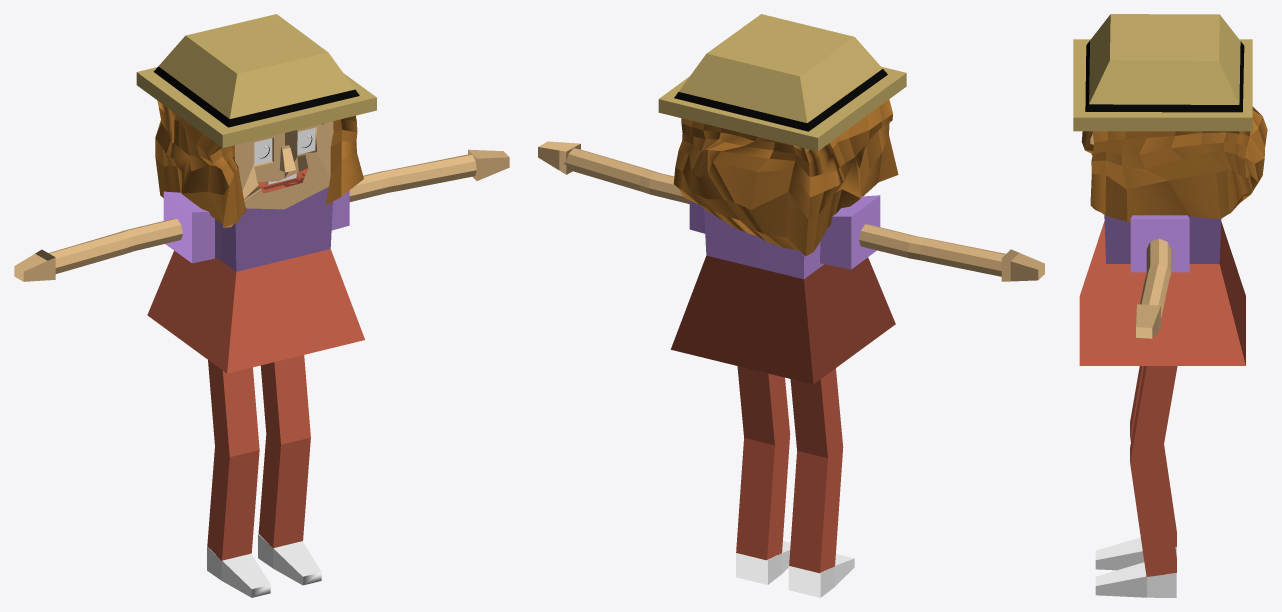
Rendered from character.fbx.
The picture shows the model from 3 angles, left to right: view 1: azimuth 30°, elevation 25°; view 2: azimuth 150°, elevation 25°; view 3: azimuth 270°, elevation 25°; orthographic projection. The views are drawn at different scales.
Visible parts, largest first — view 1: body, hoettop, haar, leg_l, leg_r, hoet_base, arm_r_1, arm_r, mouw_l, voet_r, voet_l, hand_l (+2 smaller); view 2: body, haar, hoettop, leg_l, leg_r, hoet_base, arm_r_1, mouw_l, arm_r, voet_l, voet_r, hand_l (+1 smaller); view 3: body, hoettop, haar, leg_r, hoet_base, mouw_r, voet_r, arm_r, voet_l, hand_r, leg_l.
Part boxes in pixels (<box>): body: <box>147,121,364,373</box>; hoettop: <box>153,14,359,127</box>; haar: <box>155,100,363,227</box>; leg_l: <box>207,360,259,560</box>; leg_r: <box>258,355,310,548</box>; hoet_base: <box>136,67,376,147</box>; arm_r_1: <box>48,218,182,273</box>; arm_r: <box>349,154,476,201</box>; mouw_l: <box>163,191,221,263</box>; voet_r: <box>258,534,321,585</box>; voet_l: <box>207,546,270,597</box>; hand_l: <box>14,249,55,281</box>; body: <box>671,208,895,384</box>; haar: <box>673,99,898,256</box>; hoettop: <box>674,14,887,131</box>; leg_l: <box>789,368,843,573</box>; leg_r: <box>736,366,790,560</box>; hoet_base: <box>658,66,906,151</box>; arm_r_1: <box>859,224,1005,276</box>; mouw_l: <box>820,195,880,269</box>; arm_r: <box>564,148,689,203</box>; voet_l: <box>788,554,854,597</box>; voet_r: <box>736,541,790,584</box>; hand_l: <box>1001,249,1044,281</box>; body: <box>1079,215,1245,365</box>; hoettop: <box>1085,14,1244,112</box>; haar: <box>1081,106,1267,221</box>; leg_r: <box>1130,366,1177,576</box>; hoet_base: <box>1073,39,1252,131</box>; mouw_r: <box>1130,215,1189,272</box>; voet_r: <box>1095,562,1176,597</box>; arm_r: <box>1140,238,1170,319</box>; voet_l: <box>1095,537,1176,570</box>; hand_r: <box>1136,304,1160,338</box>; leg_l: <box>1130,366,1176,546</box>.
Size of the model in its own units: 148 by 151 by 49.16.
